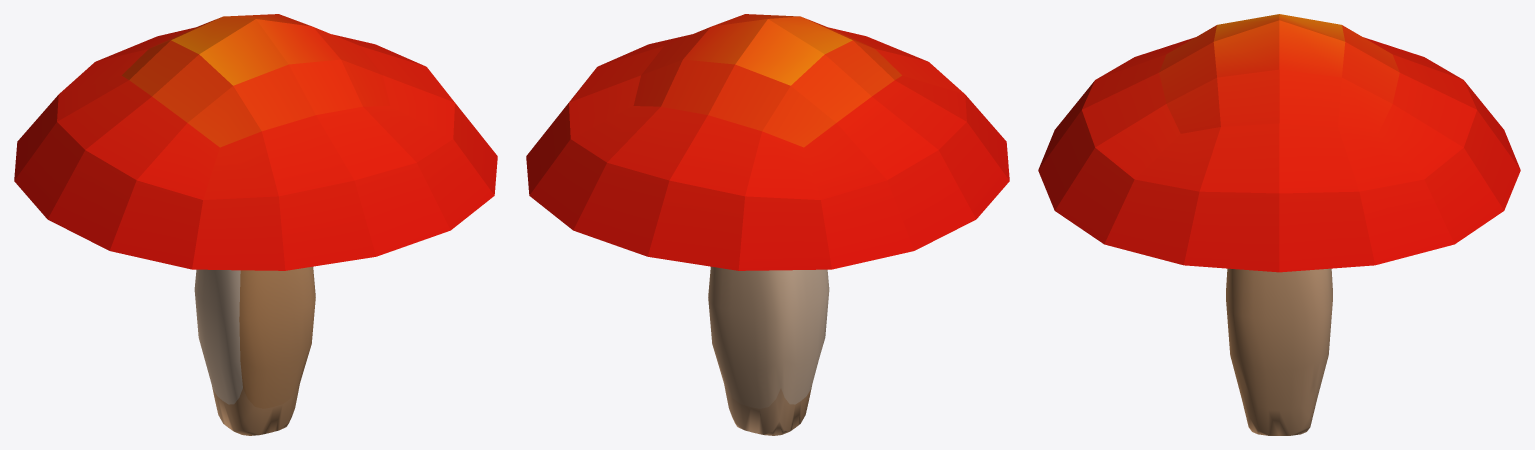
File: Mushroom.fbx
3 renders of one model, left to right at view 1: azimuth 30°, elevation 25°; view 2: azimuth 150°, elevation 25°; view 3: azimuth 270°, elevation 25°, orthographic.
Parts seen in each view (by area): view 1: Mushroom; view 2: Mushroom; view 3: Mushroom.
Boxes of the visible parts, box(x1,y1,x2,y2) form: Mushroom: box(14, 14, 497, 435); Mushroom: box(526, 14, 1009, 435); Mushroom: box(1038, 14, 1520, 435).
Bounding box in the file's own units: 0.9279 × 0.8557 × 0.9279.
